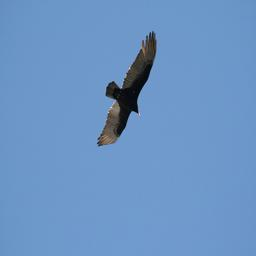bird: (190, 40, 256, 191)
